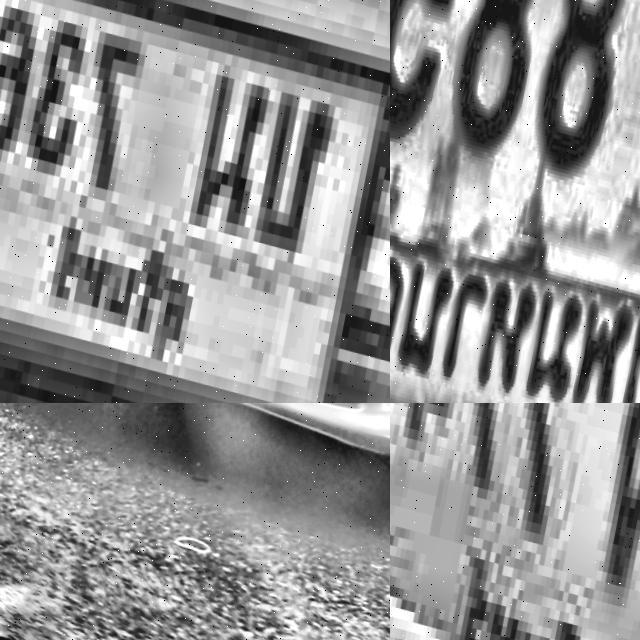license-plate: (0, 0, 390, 403), (390, 0, 640, 403), (390, 403, 640, 640)
